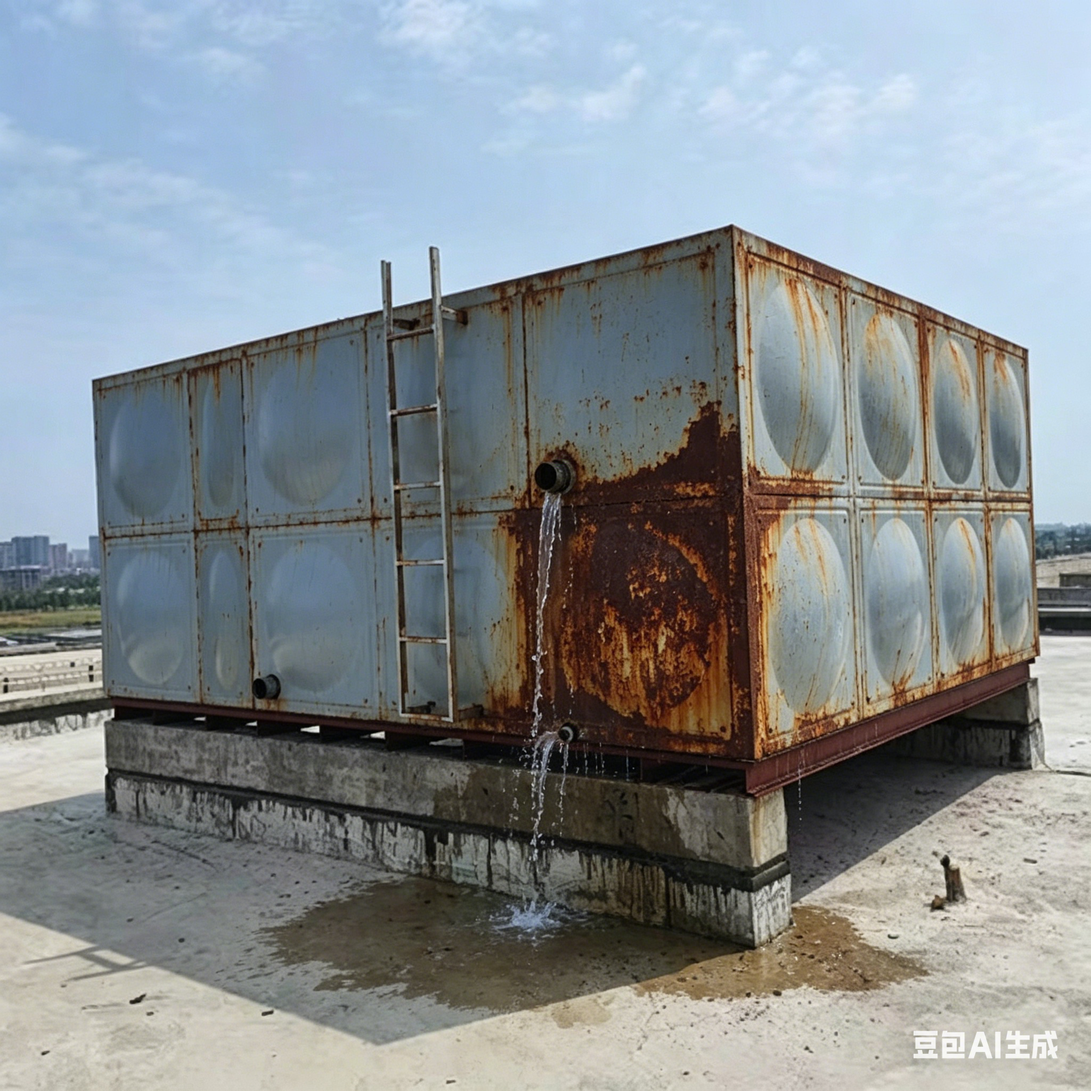Leakage: (509, 497, 596, 1005), (612, 909, 909, 1003), (321, 874, 501, 1003), (271, 894, 317, 967)
